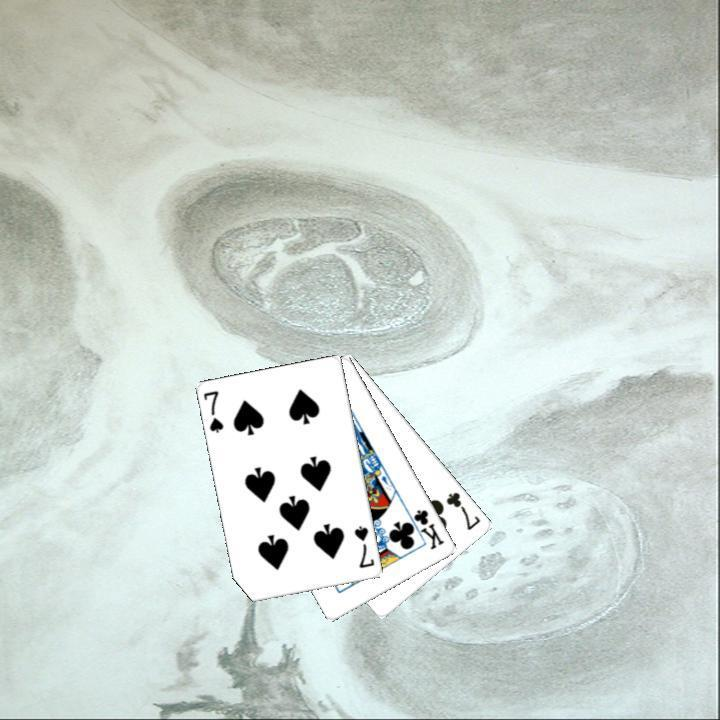7: (442, 487, 483, 532), (199, 386, 226, 435), (350, 522, 377, 570)
K: (402, 505, 446, 552)
